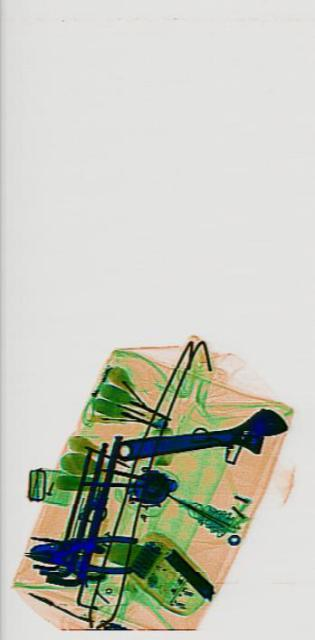Pliers: (28, 530, 136, 576)
Wrench: (116, 404, 287, 474)
